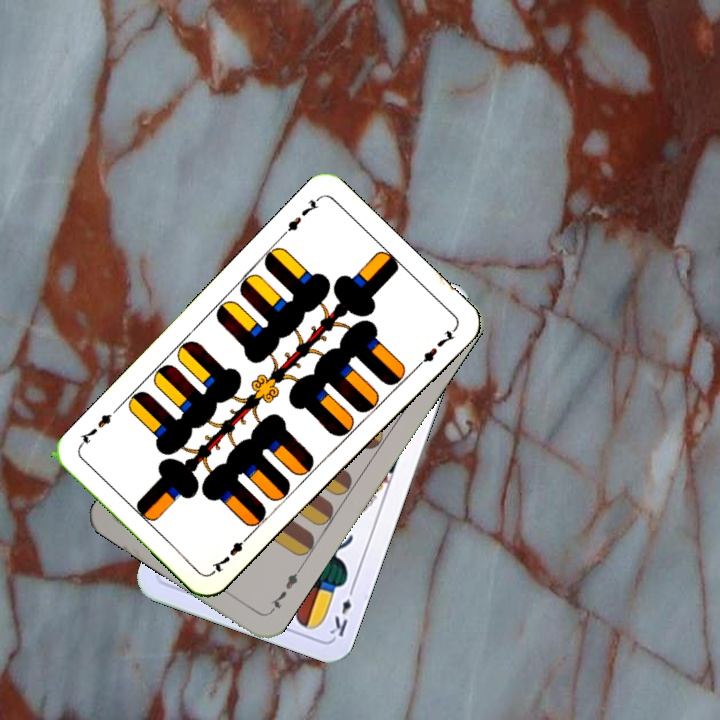E7: (207, 529, 254, 576), (277, 193, 323, 240), (265, 564, 304, 616)
EK: (325, 581, 358, 640)
